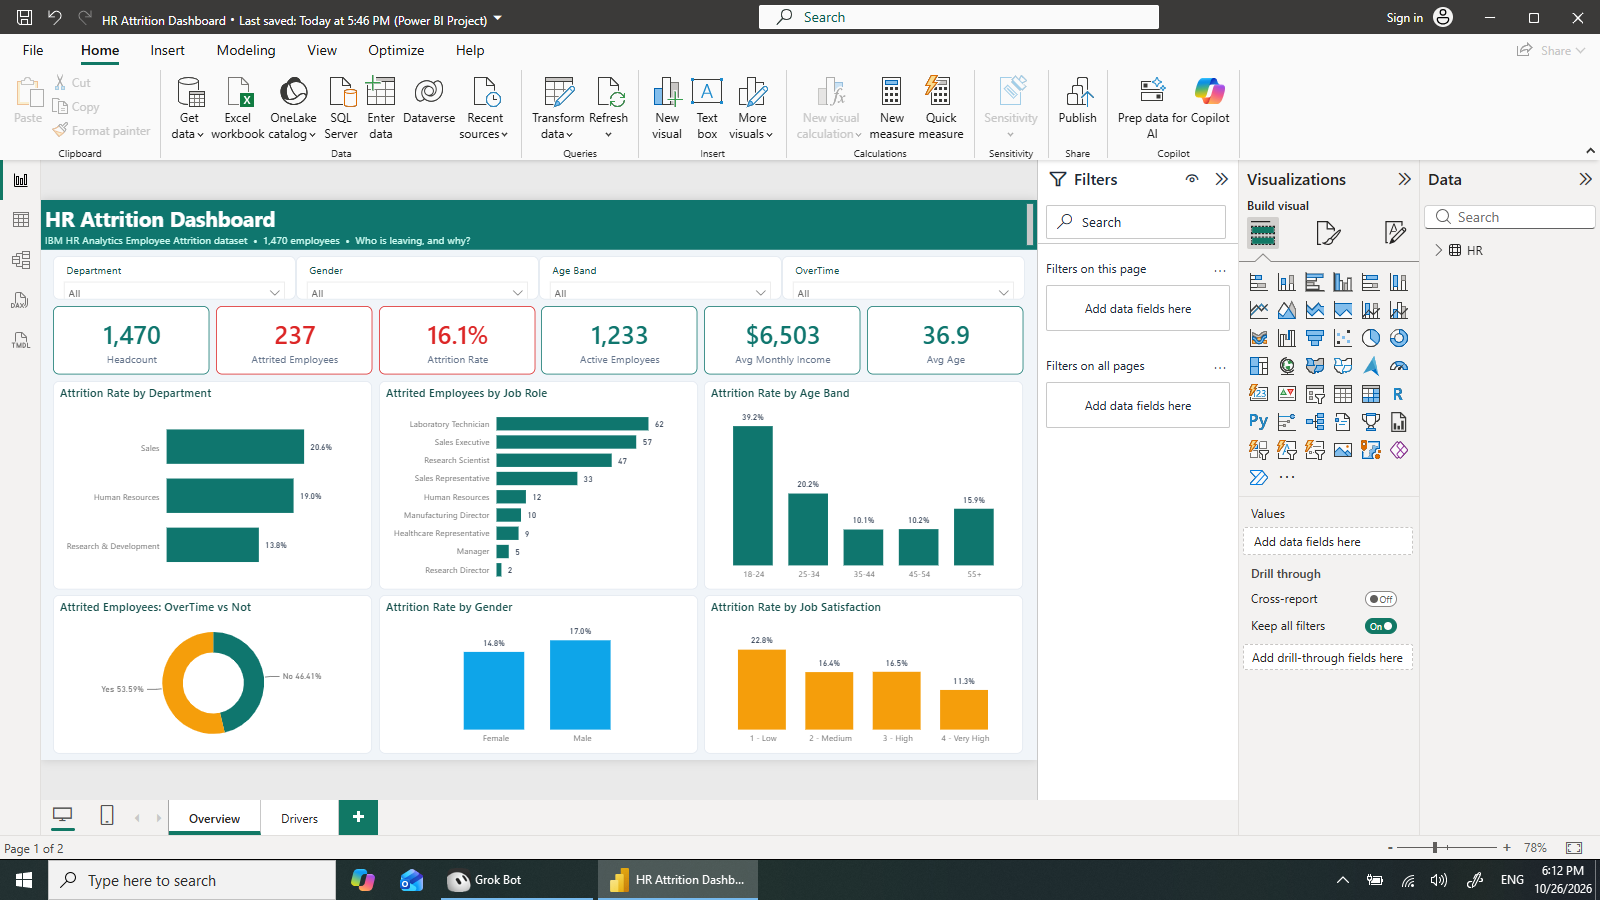

Layout of this report page (visuals, bound fields, positions):
{"tool":"powerbi","page":{"name":"Overview","canvas":[1280,720],"ordinal":0},"visuals":[{"type":"textbox","box":[0,0,1280,64],"z":1000},{"type":"slicer","title":"Department","fields":{"Values":["HR.Department"]},"box":[16,72,312,56],"z":2000},{"type":"slicer","title":"Gender","fields":{"Values":["HR.Gender"]},"box":[328,72,312,56],"z":3000},{"type":"slicer","title":"Age Band","fields":{"Values":["HR.Age Band"]},"box":[640,72,312,56],"z":4000},{"type":"slicer","title":"OverTime","fields":{"Values":["HR.OverTime"]},"box":[952,72,312,56],"z":5000},{"type":"card","title":"Headcount","fields":{"Values":["HR.Total Employees"]},"box":[16,136,201,88],"z":6000},{"type":"card","title":"Attrited Employees","fields":{"Values":["HR.Attrited Employees"]},"box":[225,136,201,88],"z":7000},{"type":"card","title":"Attrition Rate","fields":{"Values":["HR.Attrition Rate %"]},"box":[434,136,201,88],"z":8000},{"type":"card","title":"Active Employees","fields":{"Values":["HR.Active Employees"]},"box":[643,136,201,88],"z":9000},{"type":"card","title":"Avg Monthly Income","fields":{"Values":["HR.Avg Monthly Income"]},"box":[852,136,201,88],"z":10000},{"type":"card","title":"Avg Age","fields":{"Values":["HR.Avg Age"]},"box":[1061,136,201,88],"z":11000},{"type":"clusteredBarChart","title":"Attrition Rate by Department","fields":{"Category":["HR.Department"],"Y":["HR.Attrition Rate %"]},"box":[16,232,410,268],"z":12000},{"type":"clusteredBarChart","title":"Attrited Employees by Job Role","fields":{"Category":["HR.JobRole"],"Y":["HR.Attrited Employees"]},"box":[434,232,410,268],"z":13000},{"type":"clusteredColumnChart","title":"Attrition Rate by Age Band","fields":{"Category":["HR.Age Band"],"Y":["HR.Attrition Rate %"]},"box":[852,232,410,268],"z":14000},{"type":"donutChart","title":"Attrited Employees: OverTime vs Not","fields":{"Category":["HR.OverTime"],"Y":["HR.Attrited Employees"]},"box":[16,508,410,204],"z":15000},{"type":"clusteredColumnChart","title":"Attrition Rate by Gender","fields":{"Category":["HR.Gender"],"Y":["HR.Attrition Rate %"]},"box":[434,508,410,204],"z":16000},{"type":"clusteredColumnChart","title":"Attrition Rate by Job Satisfaction","fields":{"Category":["HR.Job Satisfaction Level"],"Y":["HR.Attrition Rate %"]},"box":[852,508,410,204],"z":17000}]}

Visuals, with their boxes on the page's 1280x720 design canvas (x1, y1, x2, y2). These are canvas units, not pixel positions in the 1600x900 screenshot, which may show the page scaled, cropped or inside an application window:
textbox: box=[0, 0, 1280, 64]
"Department" slicer: box=[16, 72, 328, 128]
"Gender" slicer: box=[328, 72, 640, 128]
"Age Band" slicer: box=[640, 72, 952, 128]
"OverTime" slicer: box=[952, 72, 1264, 128]
"Headcount" card: box=[16, 136, 217, 224]
"Attrited Employees" card: box=[225, 136, 426, 224]
"Attrition Rate" card: box=[434, 136, 635, 224]
"Active Employees" card: box=[643, 136, 844, 224]
"Avg Monthly Income" card: box=[852, 136, 1053, 224]
"Avg Age" card: box=[1061, 136, 1262, 224]
"Attrition Rate by Department" clusteredBarChart: box=[16, 232, 426, 500]
"Attrited Employees by Job Role" clusteredBarChart: box=[434, 232, 844, 500]
"Attrition Rate by Age Band" clusteredColumnChart: box=[852, 232, 1262, 500]
"Attrited Employees: OverTime vs Not" donutChart: box=[16, 508, 426, 712]
"Attrition Rate by Gender" clusteredColumnChart: box=[434, 508, 844, 712]
"Attrition Rate by Job Satisfaction" clusteredColumnChart: box=[852, 508, 1262, 712]
